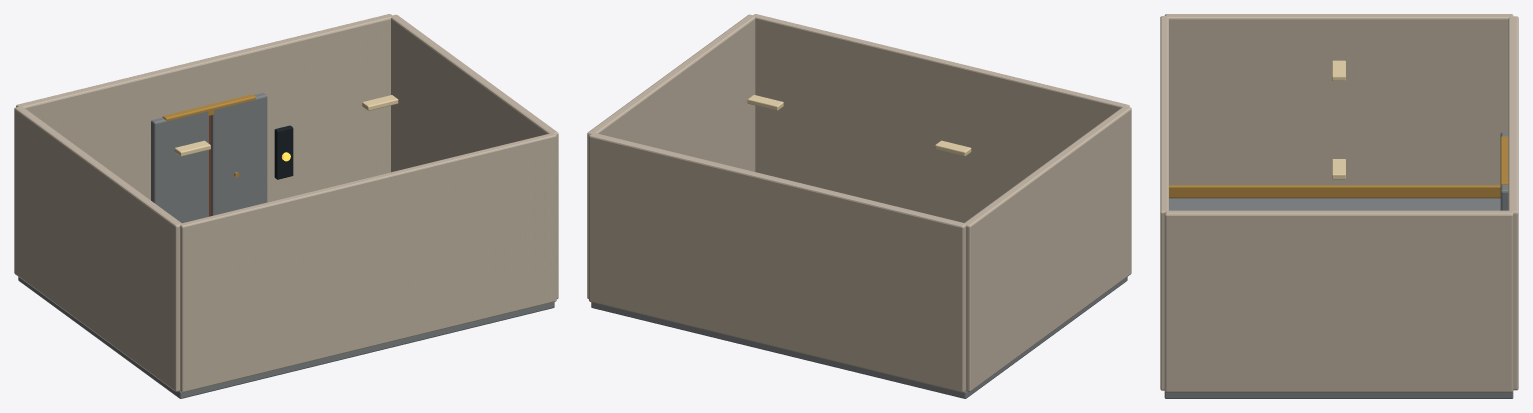
The model's file is apartment_elevator_lobby_a.glb.
The picture shows the model from 3 angles, left to right: view 1: azimuth 30°, elevation 25°; view 2: azimuth 150°, elevation 25°; view 3: azimuth 270°, elevation 25°; orthographic projection. The views are drawn at different scales.
Parts seen in each view (by area): view 1: CUTAWAY_FRONT, SET_Wall_Back, SET_Wall_Left, SET_Wall_Right, DOOR_Elevator_Right, DOOR_Elevator_Left, SET_Floor, PROP_Elevator_Panel, SET_Entry_Header; view 2: SET_Wall_Back, CUTAWAY_FRONT, SET_Wall_Left, SET_Wall_Right, SET_Floor; view 3: SET_Wall_Right, SET_Wall_Left, SET_Floor, SET_Trim_Left, SET_Wall_Back, CUTAWAY_FRONT, SET_Entry_Header.
Part boxes in pixels (x1=…): CUTAWAY_FRONT: x1=180, y1=133, x2=556, y2=392; SET_Wall_Back: x1=16, y1=14, x2=392, y2=202; SET_Wall_Left: x1=14, y1=106, x2=181, y2=391; SET_Wall_Right: x1=391, y1=14, x2=558, y2=298; DOOR_Elevator_Right: x1=211, y1=93, x2=267, y2=215; DOOR_Elevator_Left: x1=151, y1=111, x2=208, y2=223; SET_Floor: x1=18, y1=277, x2=554, y2=398; PROP_Elevator_Panel: x1=274, y1=125, x2=293, y2=179; SET_Entry_Header: x1=162, y1=94, x2=255, y2=121; SET_Wall_Back: x1=589, y1=133, x2=965, y2=392; CUTAWAY_FRONT: x1=753, y1=14, x2=1129, y2=222; SET_Wall_Left: x1=965, y1=106, x2=1131, y2=391; SET_Wall_Right: x1=587, y1=14, x2=755, y2=298; SET_Floor: x1=591, y1=277, x2=1127, y2=398; SET_Wall_Right: x1=1164, y1=210, x2=1513, y2=392; SET_Wall_Left: x1=1164, y1=14, x2=1513, y2=185; SET_Floor: x1=1164, y1=198, x2=1513, y2=398; SET_Trim_Left: x1=1169, y1=185, x2=1500, y2=198; SET_Wall_Back: x1=1508, y1=16, x2=1518, y2=390; CUTAWAY_FRONT: x1=1160, y1=16, x2=1168, y2=390; SET_Entry_Header: x1=1500, y1=136, x2=1508, y2=185.
Size of what is drawn, in the model's own units: 8.18 by 3.56 by 6.17.
